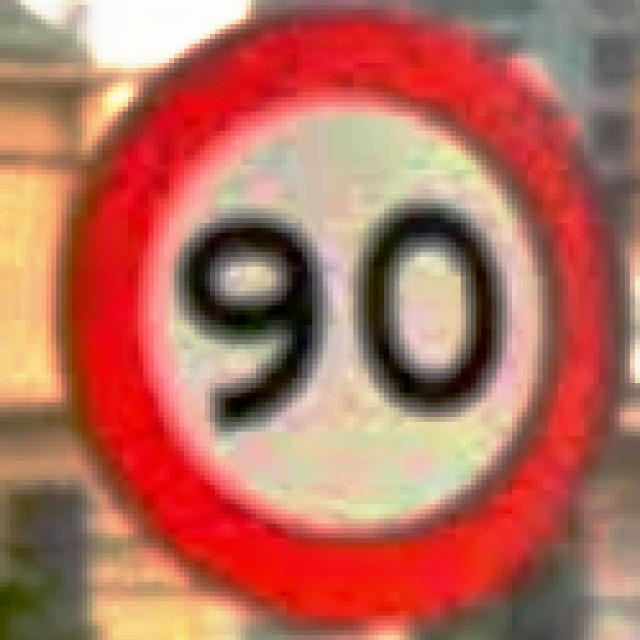max90: (56, 0, 625, 635)
